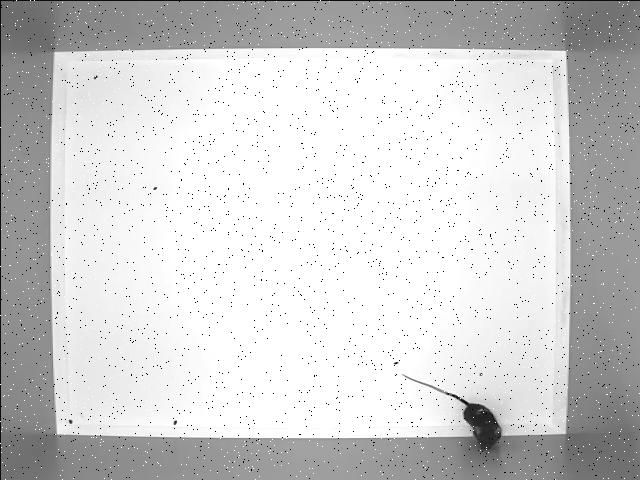Tikus: (396, 370, 502, 452)
